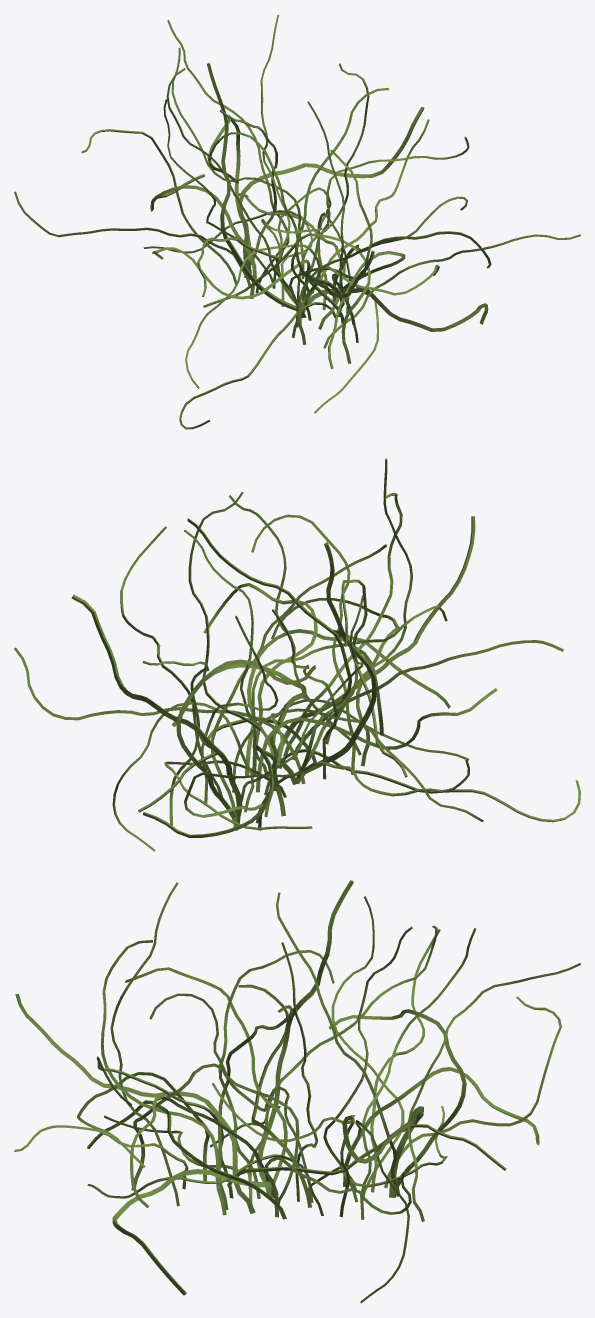
File: plant_swamp_algea_long_noisy_light_E.fbx
3 views of the same model, one above another, from view 1: azimuth 30°, elevation 25°; view 2: azimuth 150°, elevation 25°; view 3: azimuth 270°, elevation 25° (orthographic). The views are drawn at different scales.
Parts seen in each view (by area): view 1: plant_swamp_algea_long_noisy_light_E; view 2: plant_swamp_algea_long_noisy_light_E; view 3: plant_swamp_algea_long_noisy_light_E.
Boxes of the visible parts, x1,y1,x2,y2 form: plant_swamp_algea_long_noisy_light_E: (14, 15, 580, 429); plant_swamp_algea_long_noisy_light_E: (14, 458, 580, 851); plant_swamp_algea_long_noisy_light_E: (14, 880, 580, 1303).
Size of the model in its own units: 514 by 374 by 542.
